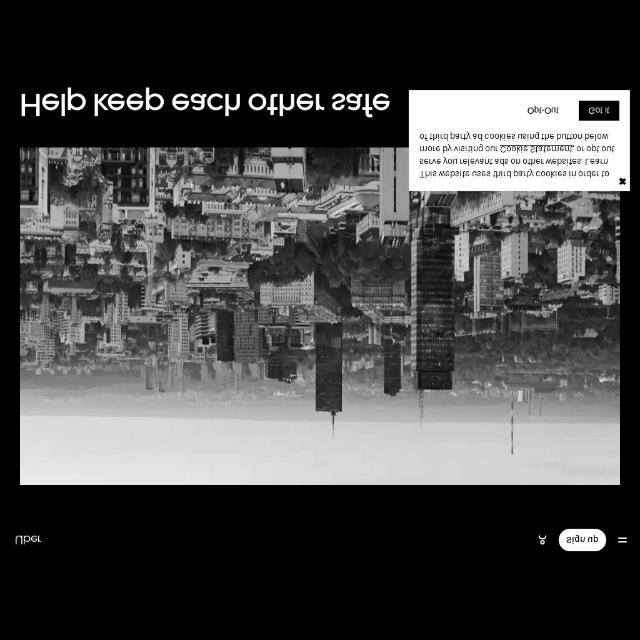icon: (538, 534, 548, 546), (616, 536, 628, 544)
image: (20, 148, 620, 486)
text: (22, 86, 390, 118), (419, 132, 616, 178), (14, 534, 42, 546), (566, 534, 598, 544), (526, 106, 560, 114), (588, 106, 610, 114)
textbutton: (560, 528, 606, 552), (578, 102, 620, 120)
